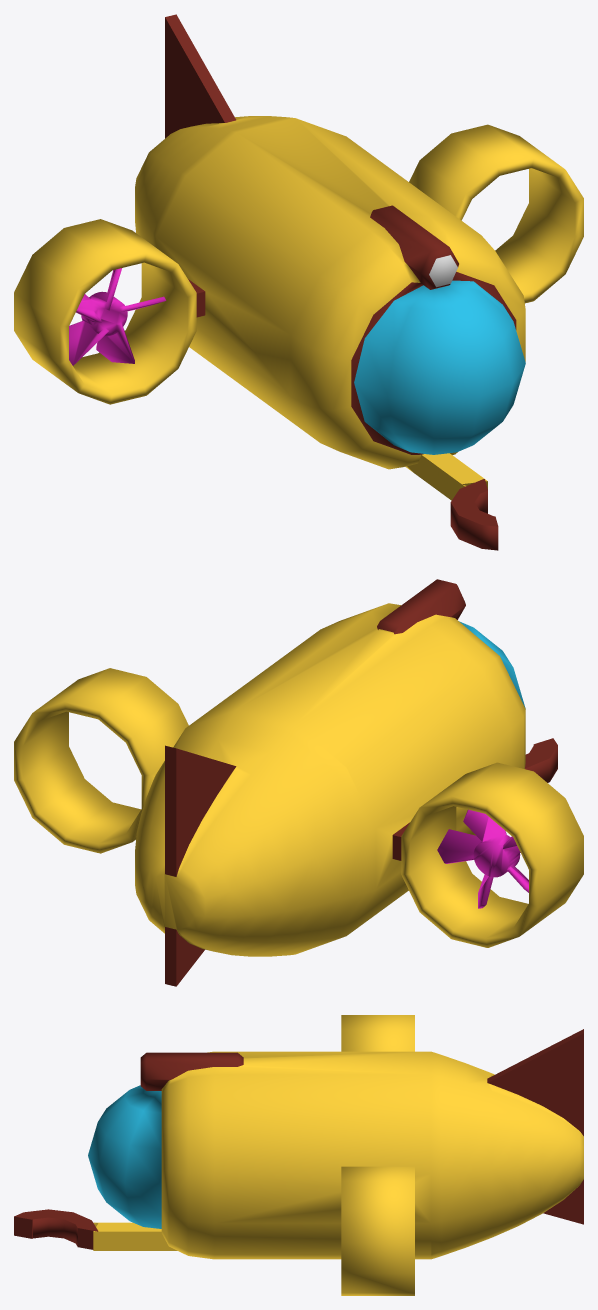
Rendered from Tiny_ROV_Color._9m2DtMm.glb.
3 renders of one model, top to bottom at view 1: azimuth 30°, elevation 25°; view 2: azimuth 150°, elevation 25°; view 3: azimuth 270°, elevation 25°, orthographic. The views are drawn at different scales.
Visible parts, largest first — view 1: Rov_Body, Prop_R, Claw_R; view 2: Rov_Body, Prop_R, Claw_R; view 3: Rov_Body, Claw_R.
Boxes of the visible parts, x1,y1,x2,y2 form: Rov_Body: [14, 14, 583, 500]; Prop_R: [69, 268, 166, 365]; Claw_R: [450, 479, 498, 550]; Rov_Body: [14, 579, 583, 986]; Prop_R: [437, 809, 528, 908]; Claw_R: [525, 738, 557, 782]; Rov_Body: [88, 1015, 583, 1295]; Claw_R: [14, 1209, 98, 1249].
Size of the model in its own units: 46 by 22.66 by 54.
